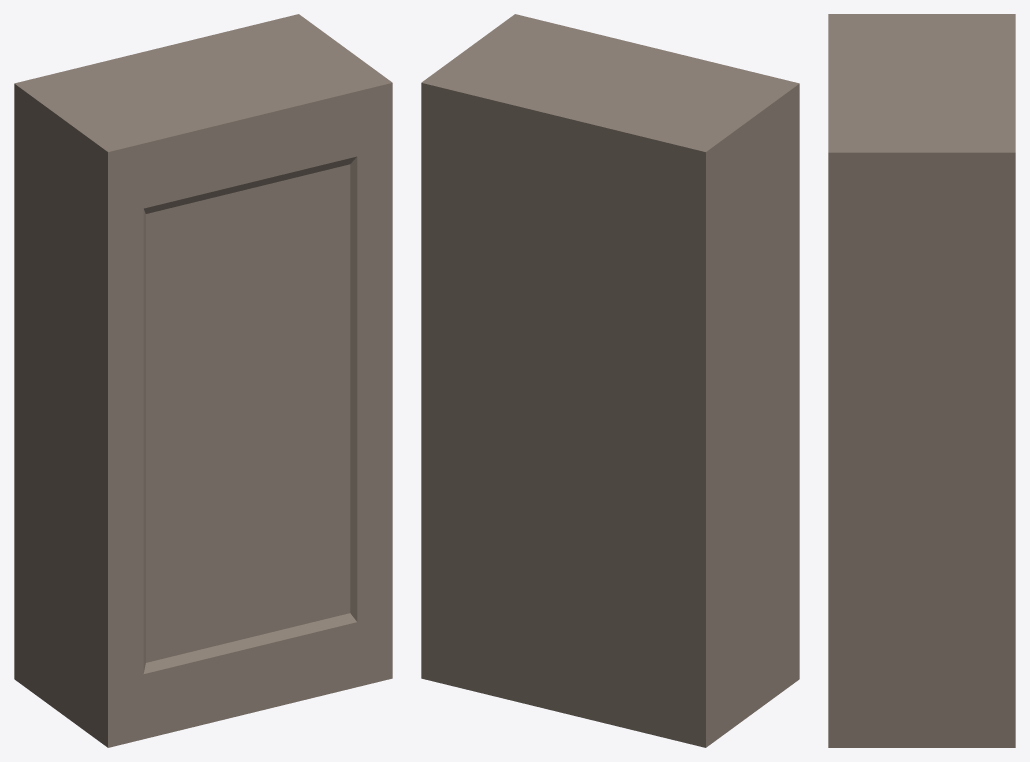
File: Wall-Cabinet-Single-Door-with-Shelves_std_001_H42in_onlyH.glb
3 views of the same model, side by side, from view 1: azimuth 30°, elevation 25°; view 2: azimuth 150°, elevation 25°; view 3: azimuth 270°, elevation 25° (orthographic).
Parts seen in each view (by area): view 1: Wall-Cabinet-Single-Door-with-Shelves.std.001_H42in_onlyH; view 2: Wall-Cabinet-Single-Door-with-Shelves.std.001_H42in_onlyH; view 3: Wall-Cabinet-Single-Door-with-Shelves.std.001_H42in_onlyH.
Boxes of the visible parts, <box> form: Wall-Cabinet-Single-Door-with-Shelves.std.001_H42in_onlyH: <box>14,14,392,747</box>; Wall-Cabinet-Single-Door-with-Shelves.std.001_H42in_onlyH: <box>421,14,799,747</box>; Wall-Cabinet-Single-Door-with-Shelves.std.001_H42in_onlyH: <box>828,14,1015,747</box>.
Bounding box in the file's own units: 0.5334 × 1.07 × 0.3048.
